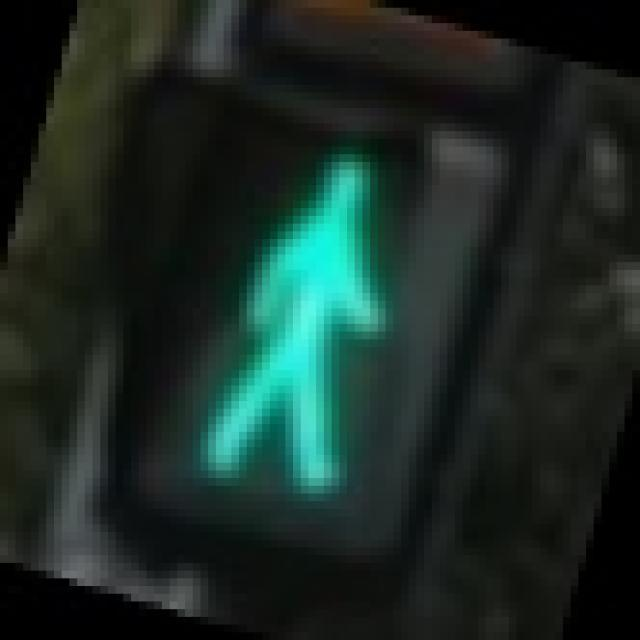geen-crossing: (131, 70, 478, 548)
